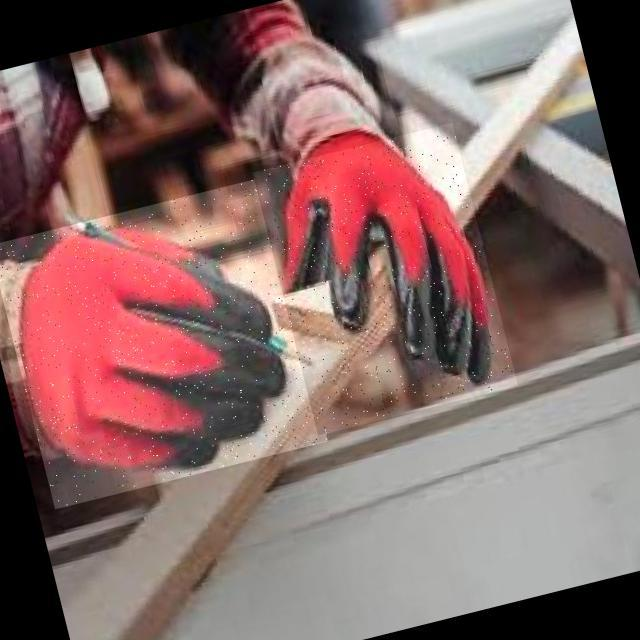Gloves: (0, 177, 327, 509), (253, 122, 518, 435)
